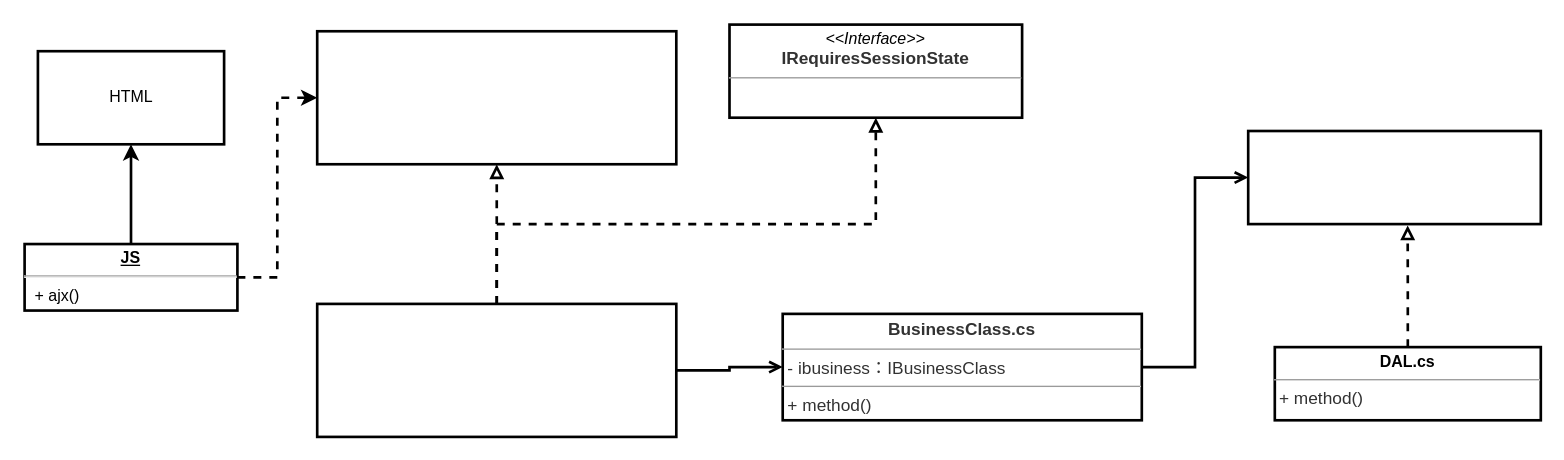
The diagram is 1564 pixels wide and 460 high, and some of its shapes have lost their labels. The box of each missing label's shape, as (x1, y1, x2, y2) in pixels:
.ashx - business：BusinessClass + ProcessRequest(HttpContext context) + Method(): (315, 302, 677, 438)
<<Interface>> IBusinessClass + method(): (1246, 129, 1541, 225)
<<Interface>> IHttpHandler + IsReusable + ProcessRequest(HttpContext context): (315, 29, 677, 165)
